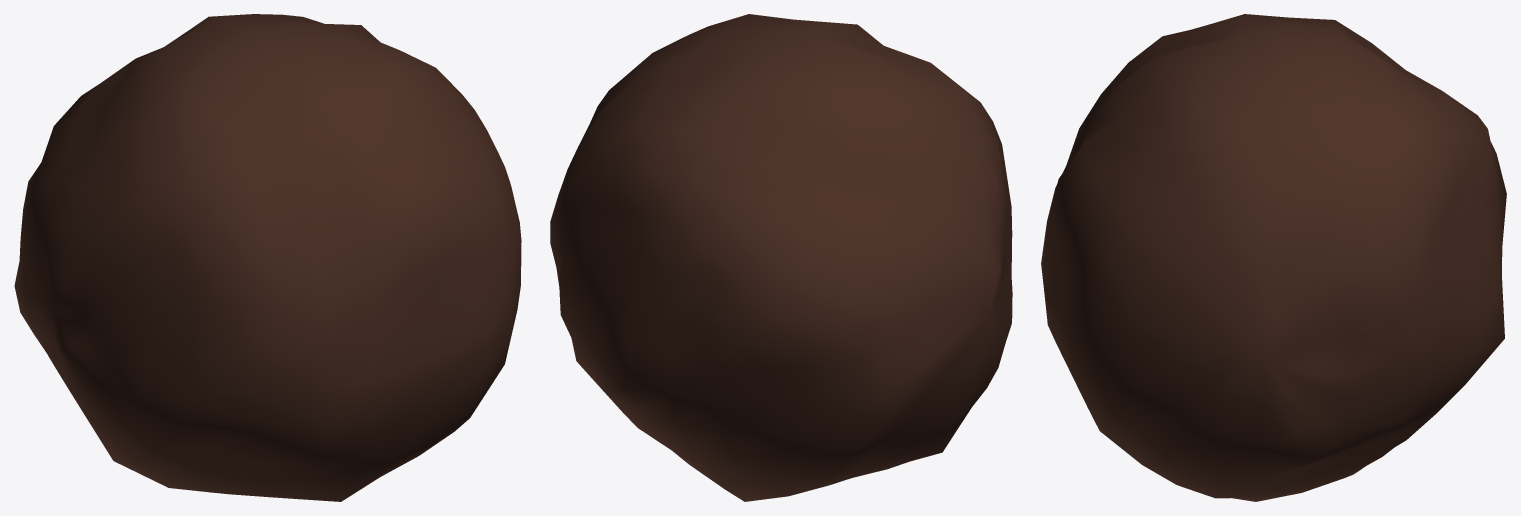
Rendered from iceCreamChoco.glb.
3 views of the same model, side by side, from view 1: azimuth 30°, elevation 25°; view 2: azimuth 150°, elevation 25°; view 3: azimuth 270°, elevation 25° (orthographic). The views are drawn at different scales.
Visible parts, largest first — view 1: IceCream.003; view 2: IceCream.003; view 3: IceCream.003.
Part boxes in pixels (x1,y1,x2,y2): IceCream.003: (14, 14, 521, 501); IceCream.003: (550, 14, 1012, 501); IceCream.003: (1041, 14, 1506, 501).
Size of the model in its own units: 1.05 by 1.06 by 1.
